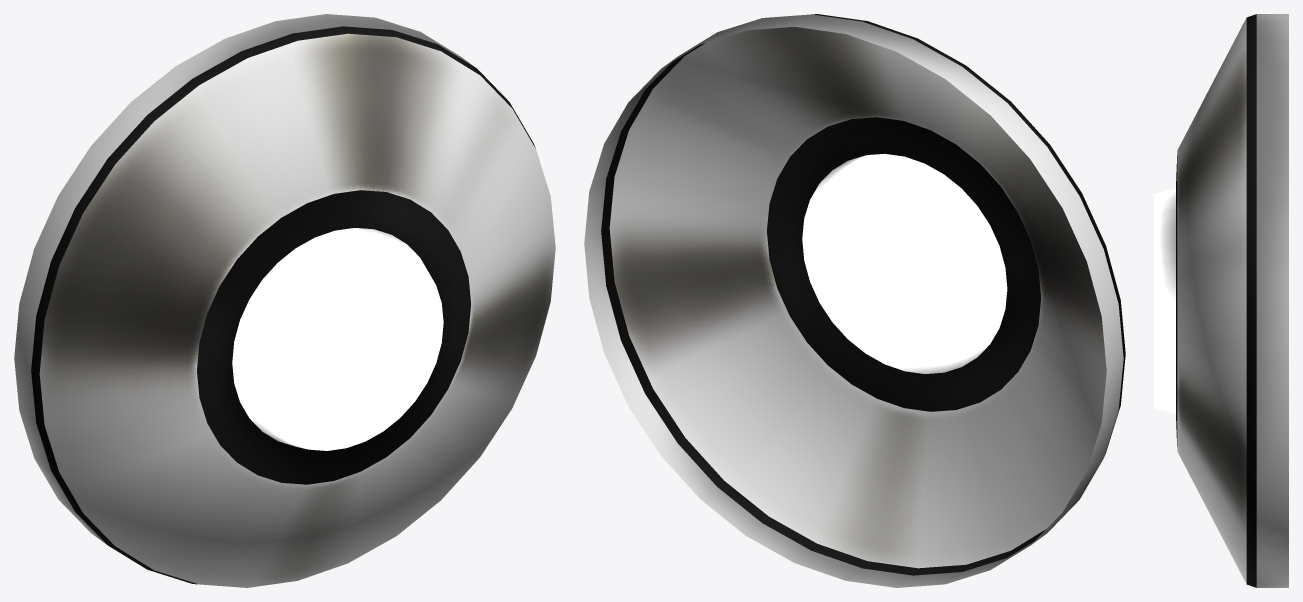
Rendered from Note.glb.
3 renders of one model, left to right at view 1: azimuth 30°, elevation 25°; view 2: azimuth 150°, elevation 25°; view 3: azimuth 270°, elevation 25°, orthographic. The views are drawn at different scales.
Parts seen in each view (by area): view 1: Note; view 2: Note; view 3: Note.
Boxes of the visible parts, x1,y1,x2,y2 form: Note: [14, 14, 555, 587]; Note: [584, 14, 1125, 587]; Note: [1154, 14, 1288, 587].
Bounding box in the file's own units: 2 × 2 × 0.4688.
Materials: 1 (1 with a texture image).
